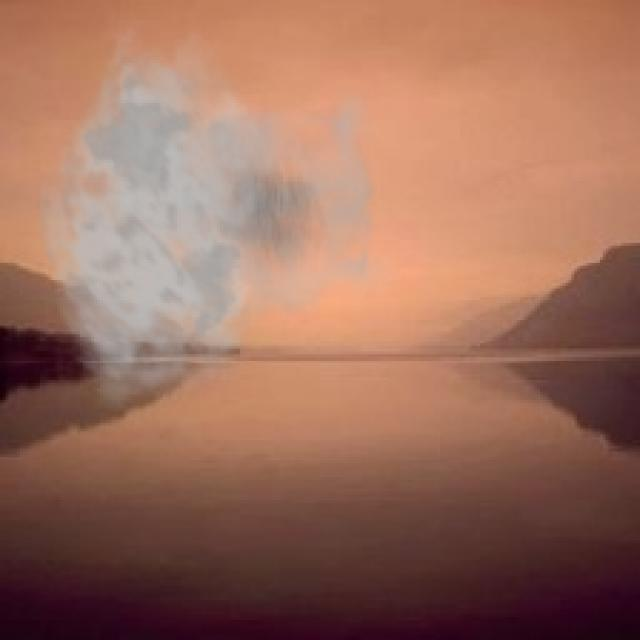smoke: (37, 20, 409, 409)
